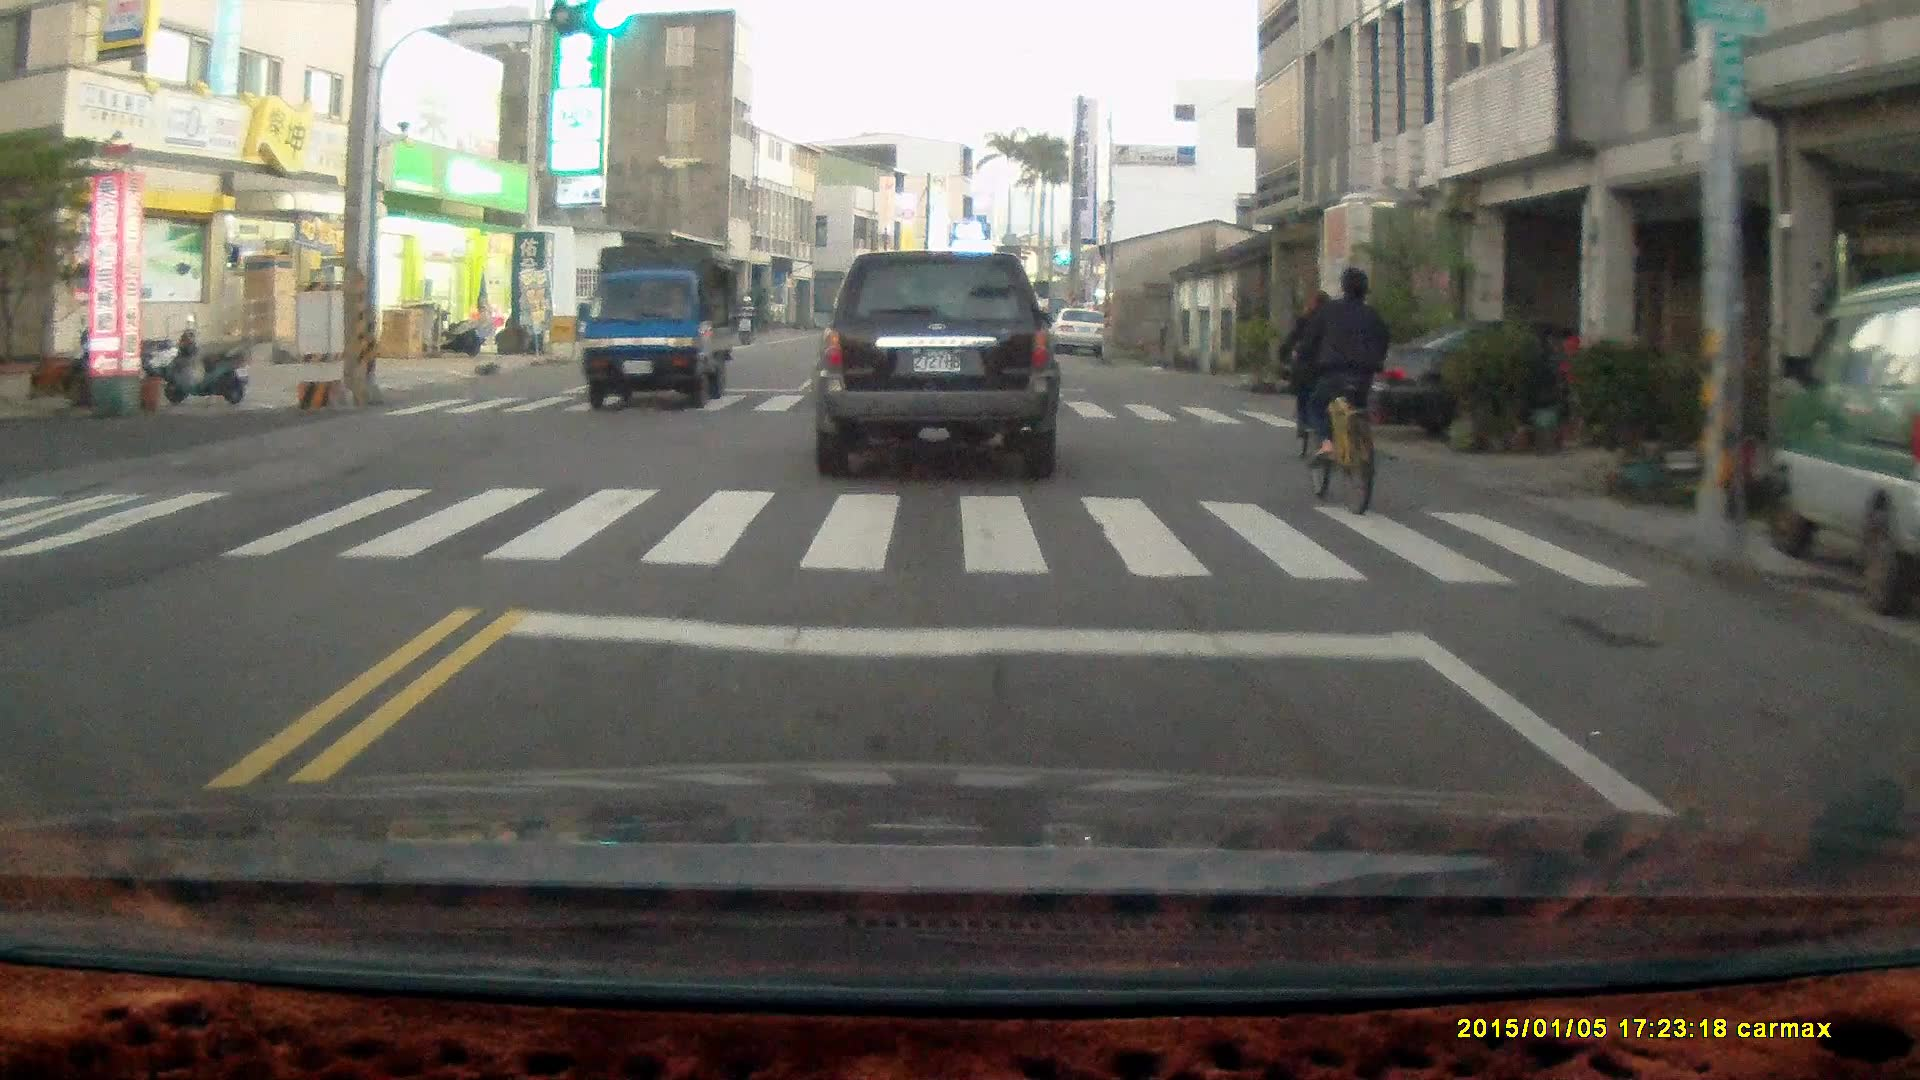rider: (1290, 264, 1390, 512), (1284, 274, 1350, 454), (734, 291, 757, 344)
vehicle: (809, 248, 1062, 478), (1769, 277, 1920, 603), (1369, 319, 1714, 454), (580, 240, 740, 412), (1053, 307, 1114, 356)
